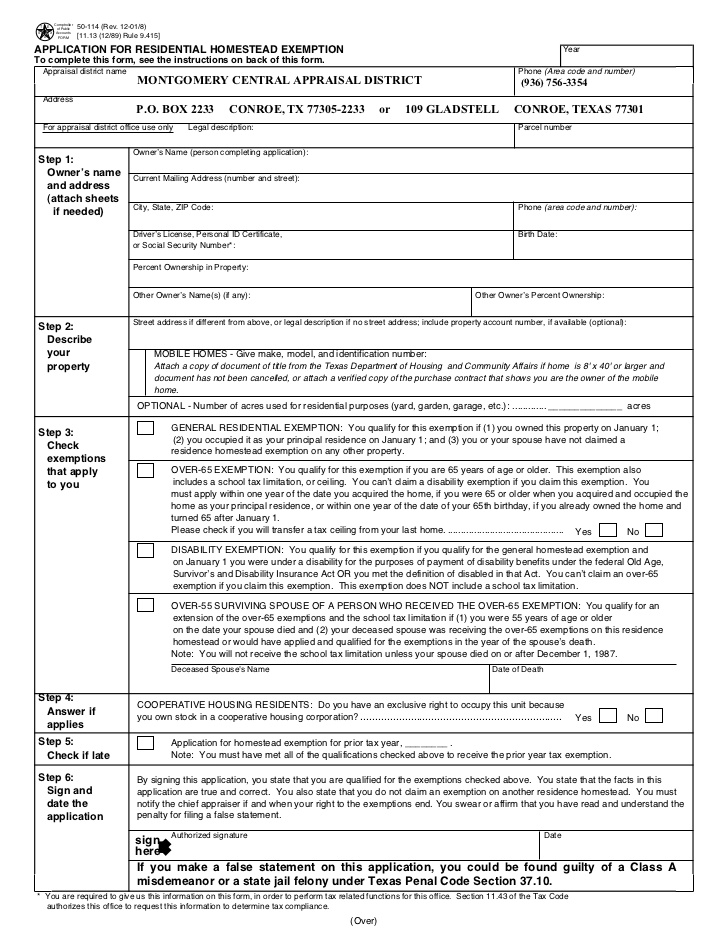checkbox: (641, 518, 666, 540), (132, 461, 158, 480), (642, 705, 666, 725), (594, 520, 619, 539), (597, 706, 621, 725), (133, 732, 156, 751), (135, 595, 157, 614), (134, 542, 157, 560), (135, 418, 157, 436)
textbox: (120, 308, 699, 360), (121, 169, 697, 208), (123, 254, 699, 293), (119, 143, 695, 179), (120, 827, 550, 871), (120, 197, 522, 243), (29, 118, 524, 155), (120, 656, 495, 701), (123, 223, 523, 265), (123, 282, 477, 323), (464, 281, 698, 323), (480, 657, 697, 702), (511, 61, 700, 103), (507, 223, 697, 264), (507, 198, 700, 237), (533, 824, 699, 866), (505, 119, 701, 153), (556, 40, 701, 73)
textline: (545, 399, 625, 412), (401, 736, 450, 749)
